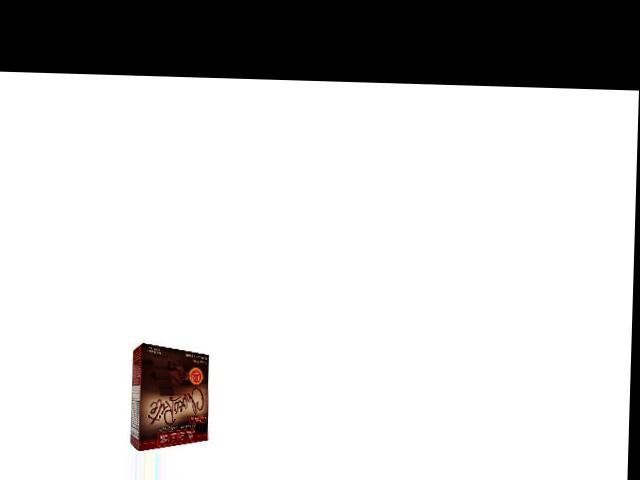chocolate: (130, 342, 212, 450)
